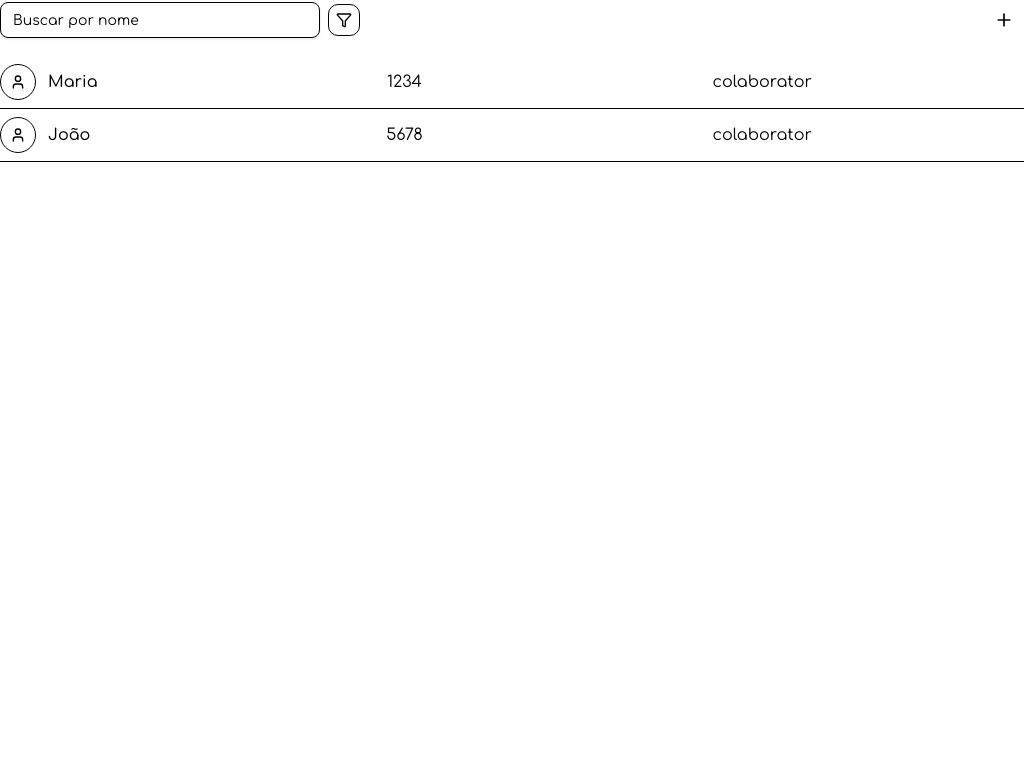
Test case: UserManager › opens edit modal when user name is clicked
Click the button "Maria 1234 colaborator" at (18, 82), box [0,56,1023,108]
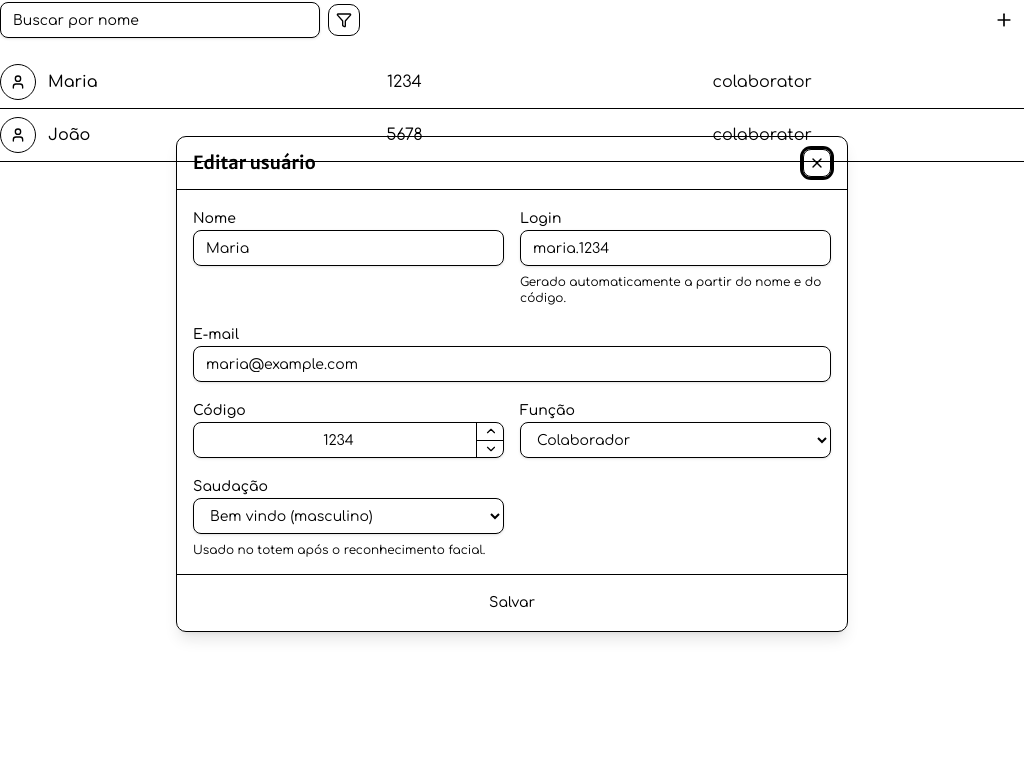
Result: the dialog is shown at [176,136,848,632]
Result: the heading "Editar usuário" is shown at [193,149,316,177]
Result: the field labelled "Nome" holds "Maria" at [193,230,504,266]
